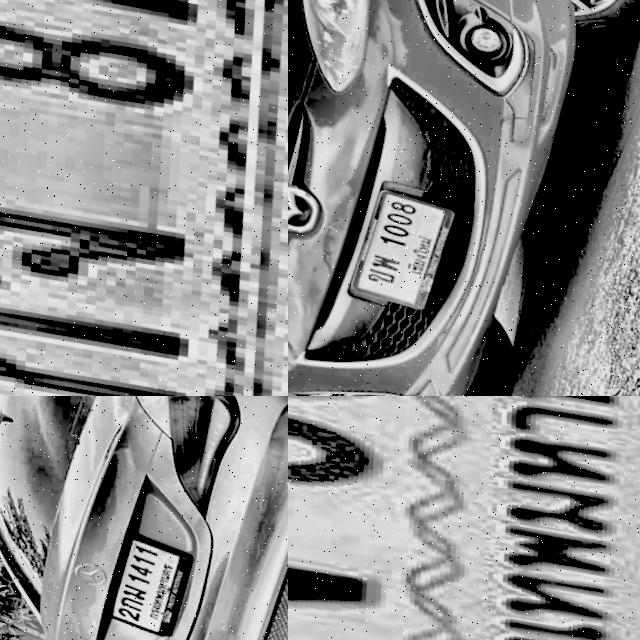license-plate: (0, 0, 288, 396), (288, 396, 640, 640), (321, 177, 458, 320), (79, 529, 194, 639)
